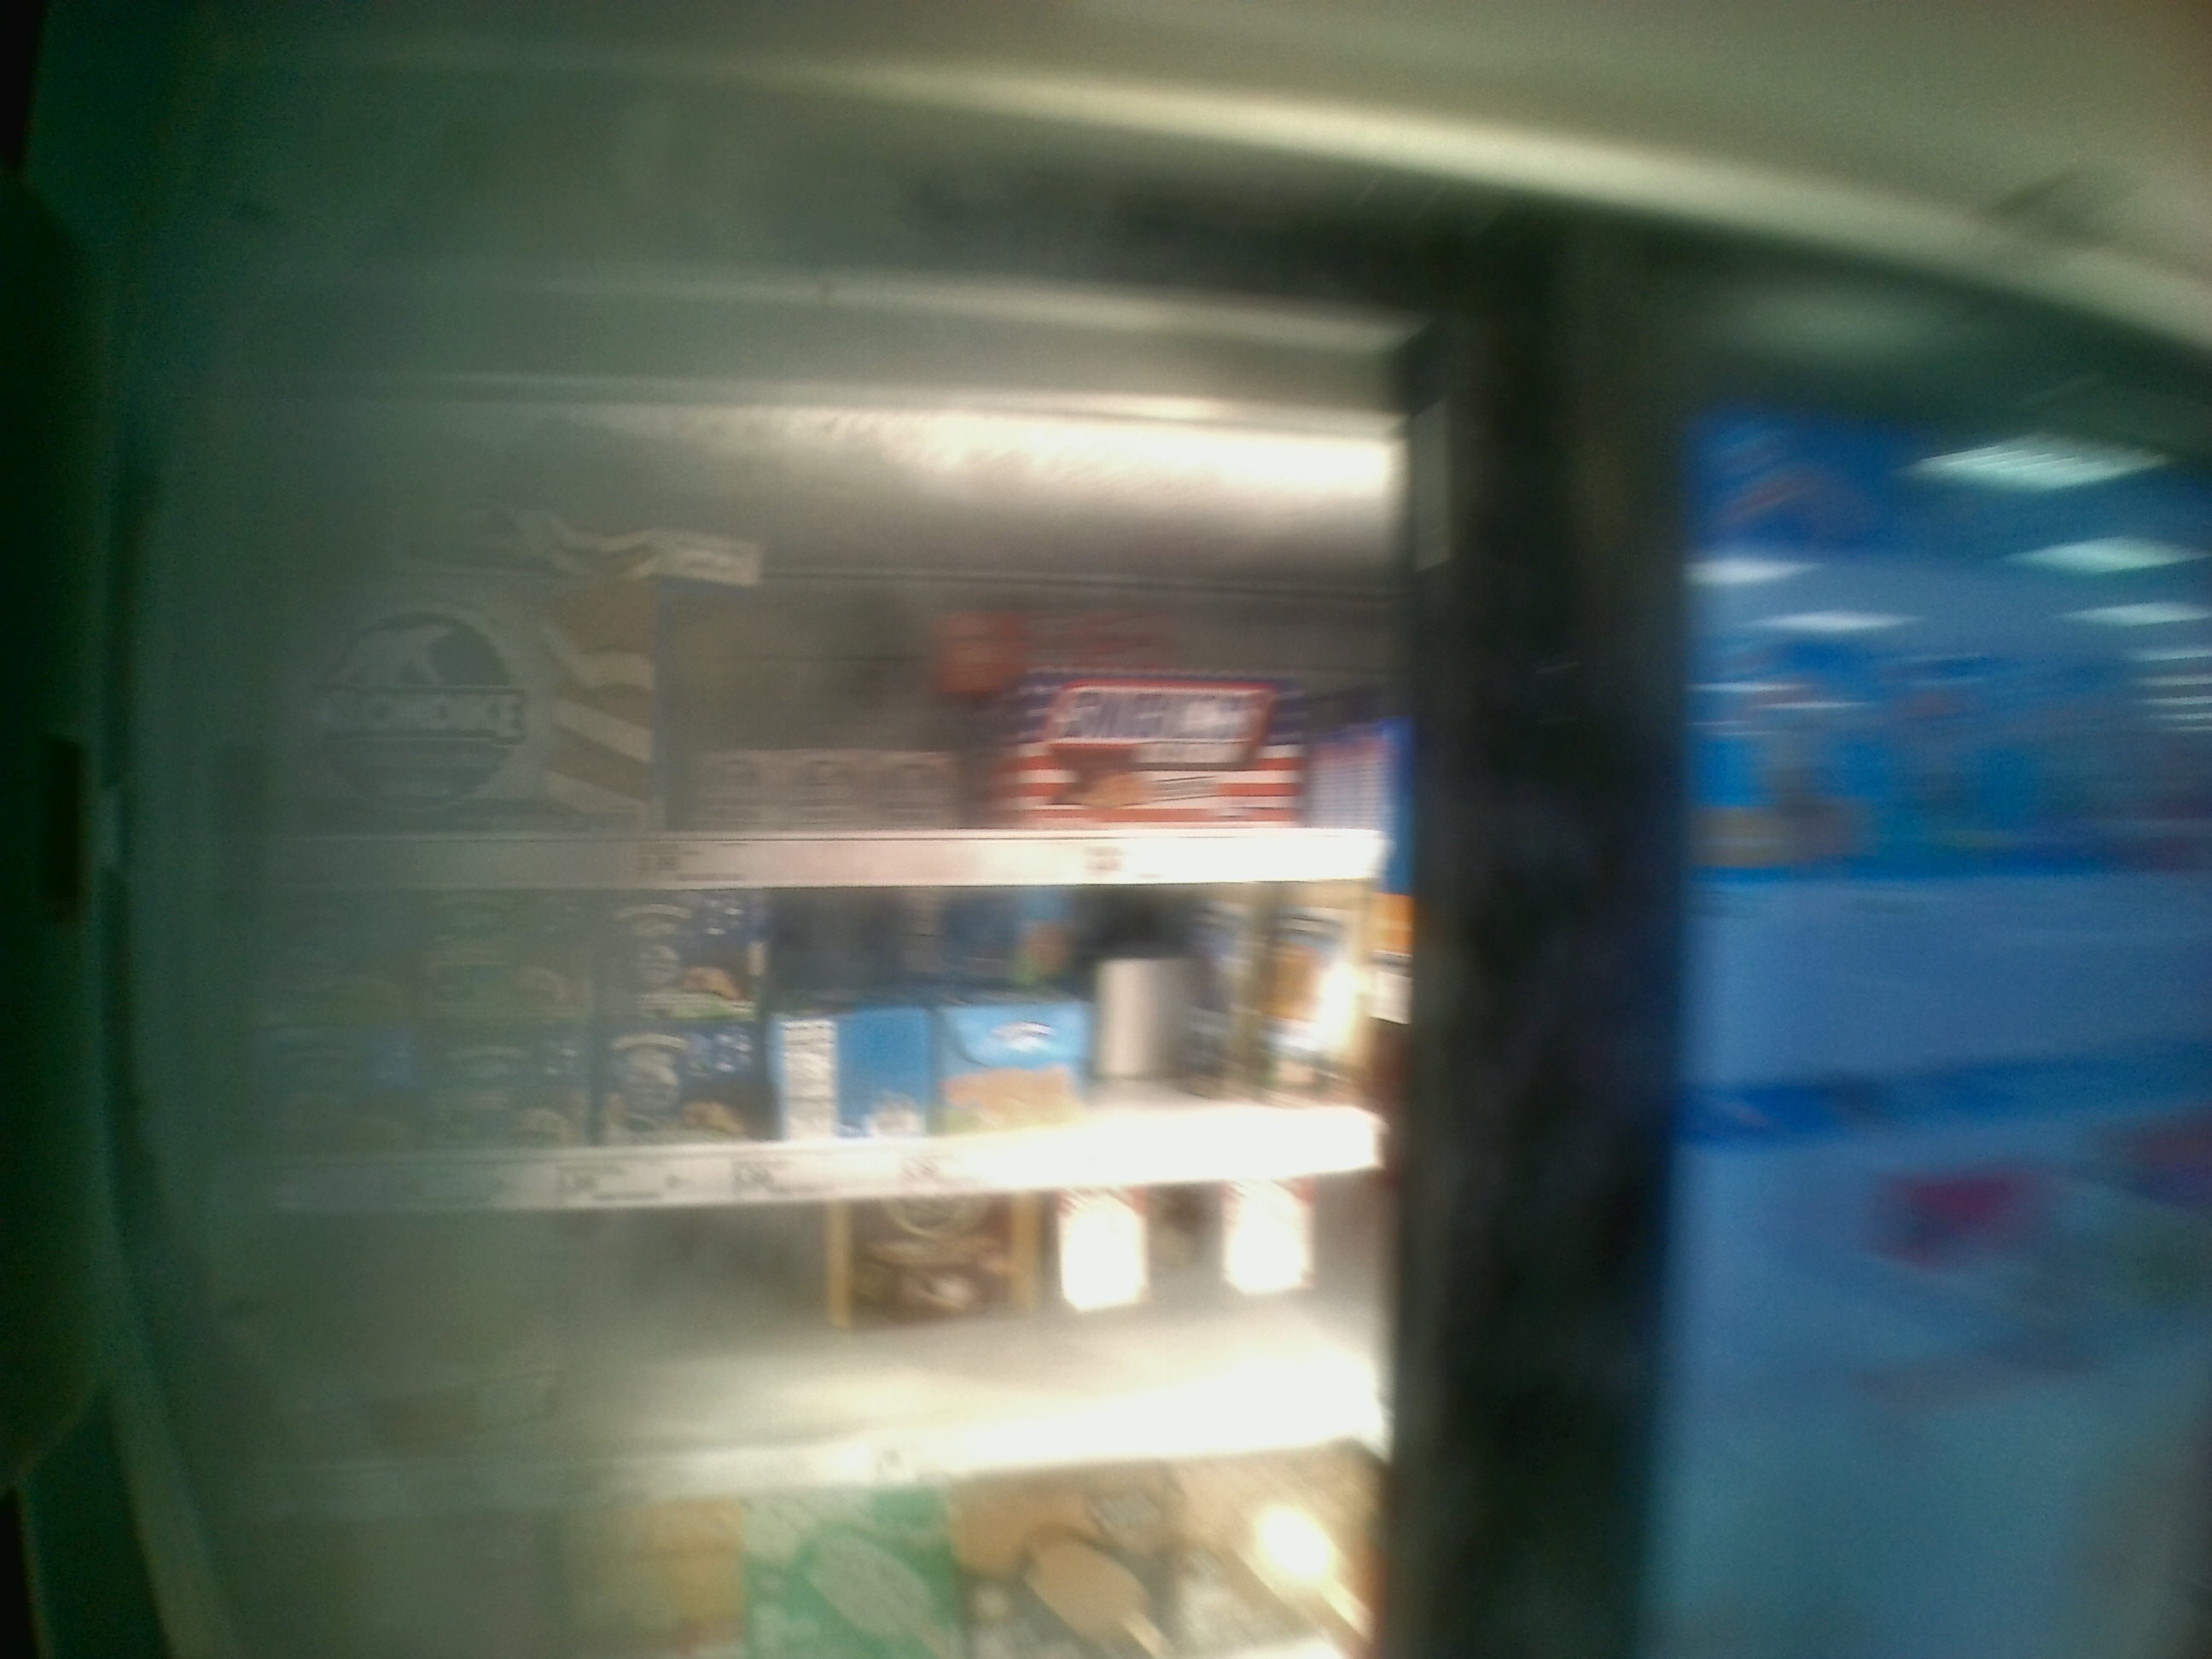shelf: (221, 430, 1388, 882), (212, 884, 1418, 1229)
